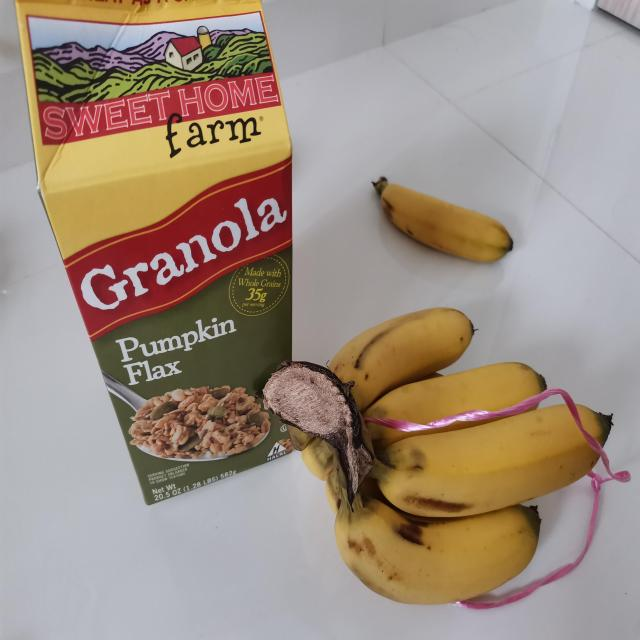Book: (260, 304, 615, 611), (371, 169, 518, 271)
Cerealbox: (12, 1, 295, 509)
